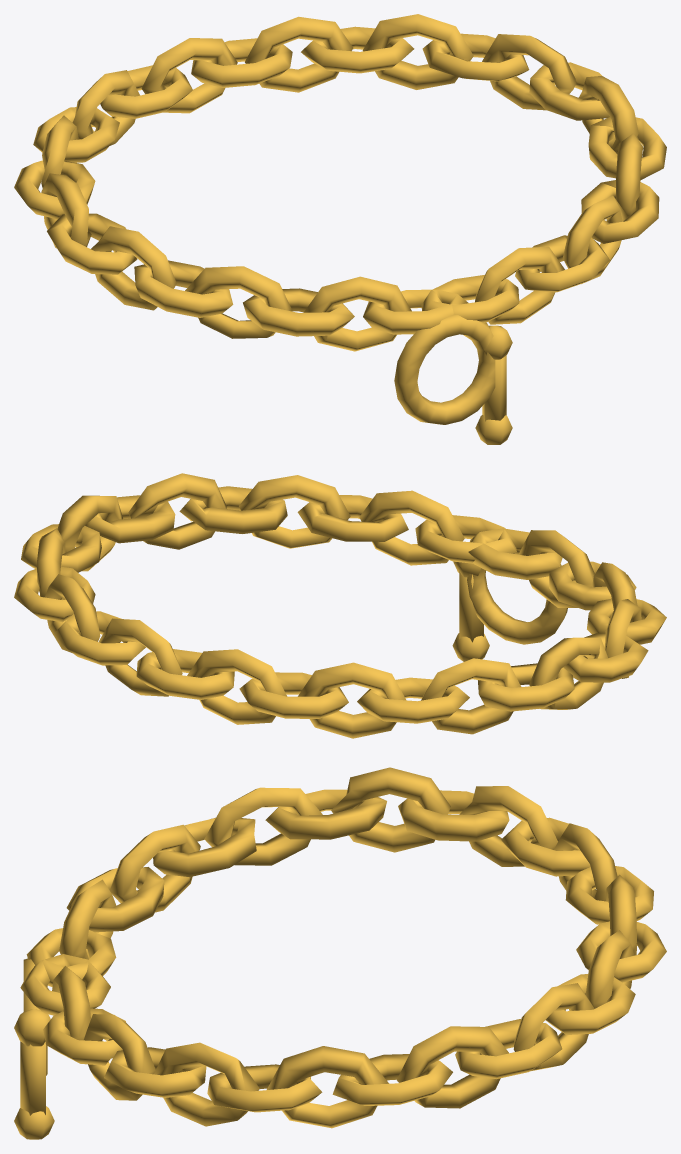
Rendered from chunky_chain.glb.
3 views of the same model, one above another, from view 1: azimuth 30°, elevation 25°; view 2: azimuth 150°, elevation 25°; view 3: azimuth 270°, elevation 25° (orthographic). The views are drawn at different scales.
Parts seen in each view (by area): view 1: chunky_chain; view 2: chunky_chain; view 3: chunky_chain.
Boxes of the visible parts, bbox=[...] form: chunky_chain: bbox=[14, 14, 666, 444]; chunky_chain: bbox=[14, 473, 666, 738]; chunky_chain: bbox=[14, 767, 666, 1139].
Size of the model in its own units: 0.0936 by 0.0336 by 0.0832.
